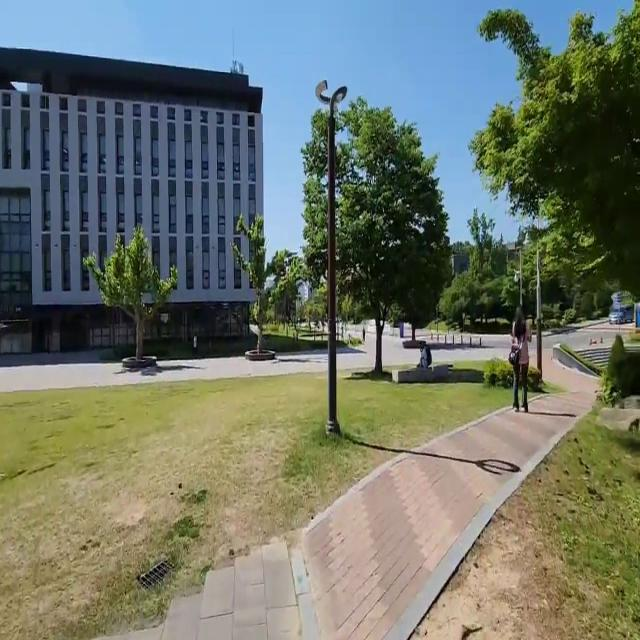human: (506, 300, 534, 413)
streetlamp: (308, 68, 352, 436)
